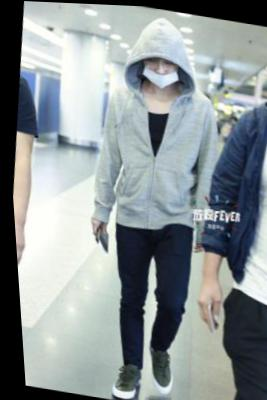WRONG: (138, 51, 181, 90)
